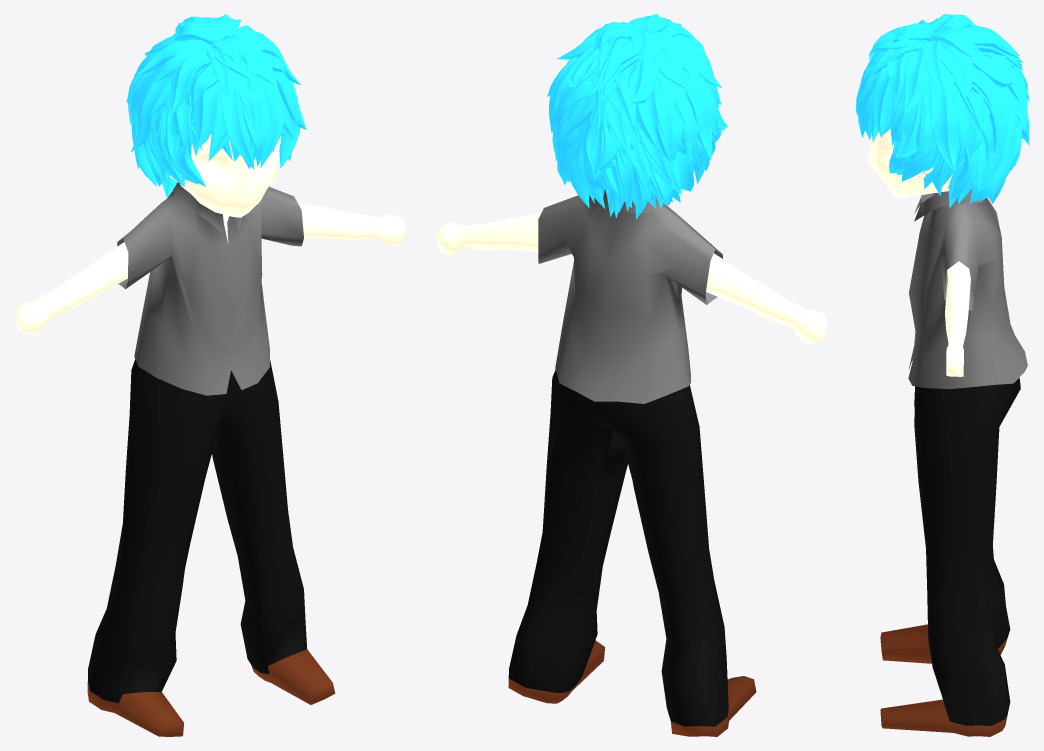
File: jiki.fbx
3 renders of one model, left to right at view 1: azimuth 30°, elevation 25°; view 2: azimuth 150°, elevation 25°; view 3: azimuth 270°, elevation 25°, orthographic.
Visible parts, largest first — view 1: Cube; view 2: Cube; view 3: Cube.
Boxes of the visible parts, left/top/right/bottom form: Cube: left=14, top=14, right=406, bottom=736; Cube: left=435, top=14, right=827, bottom=736; Cube: left=856, top=14, right=1029, bottom=736.
Size of the model in its own units: 467 by 782 by 183.
